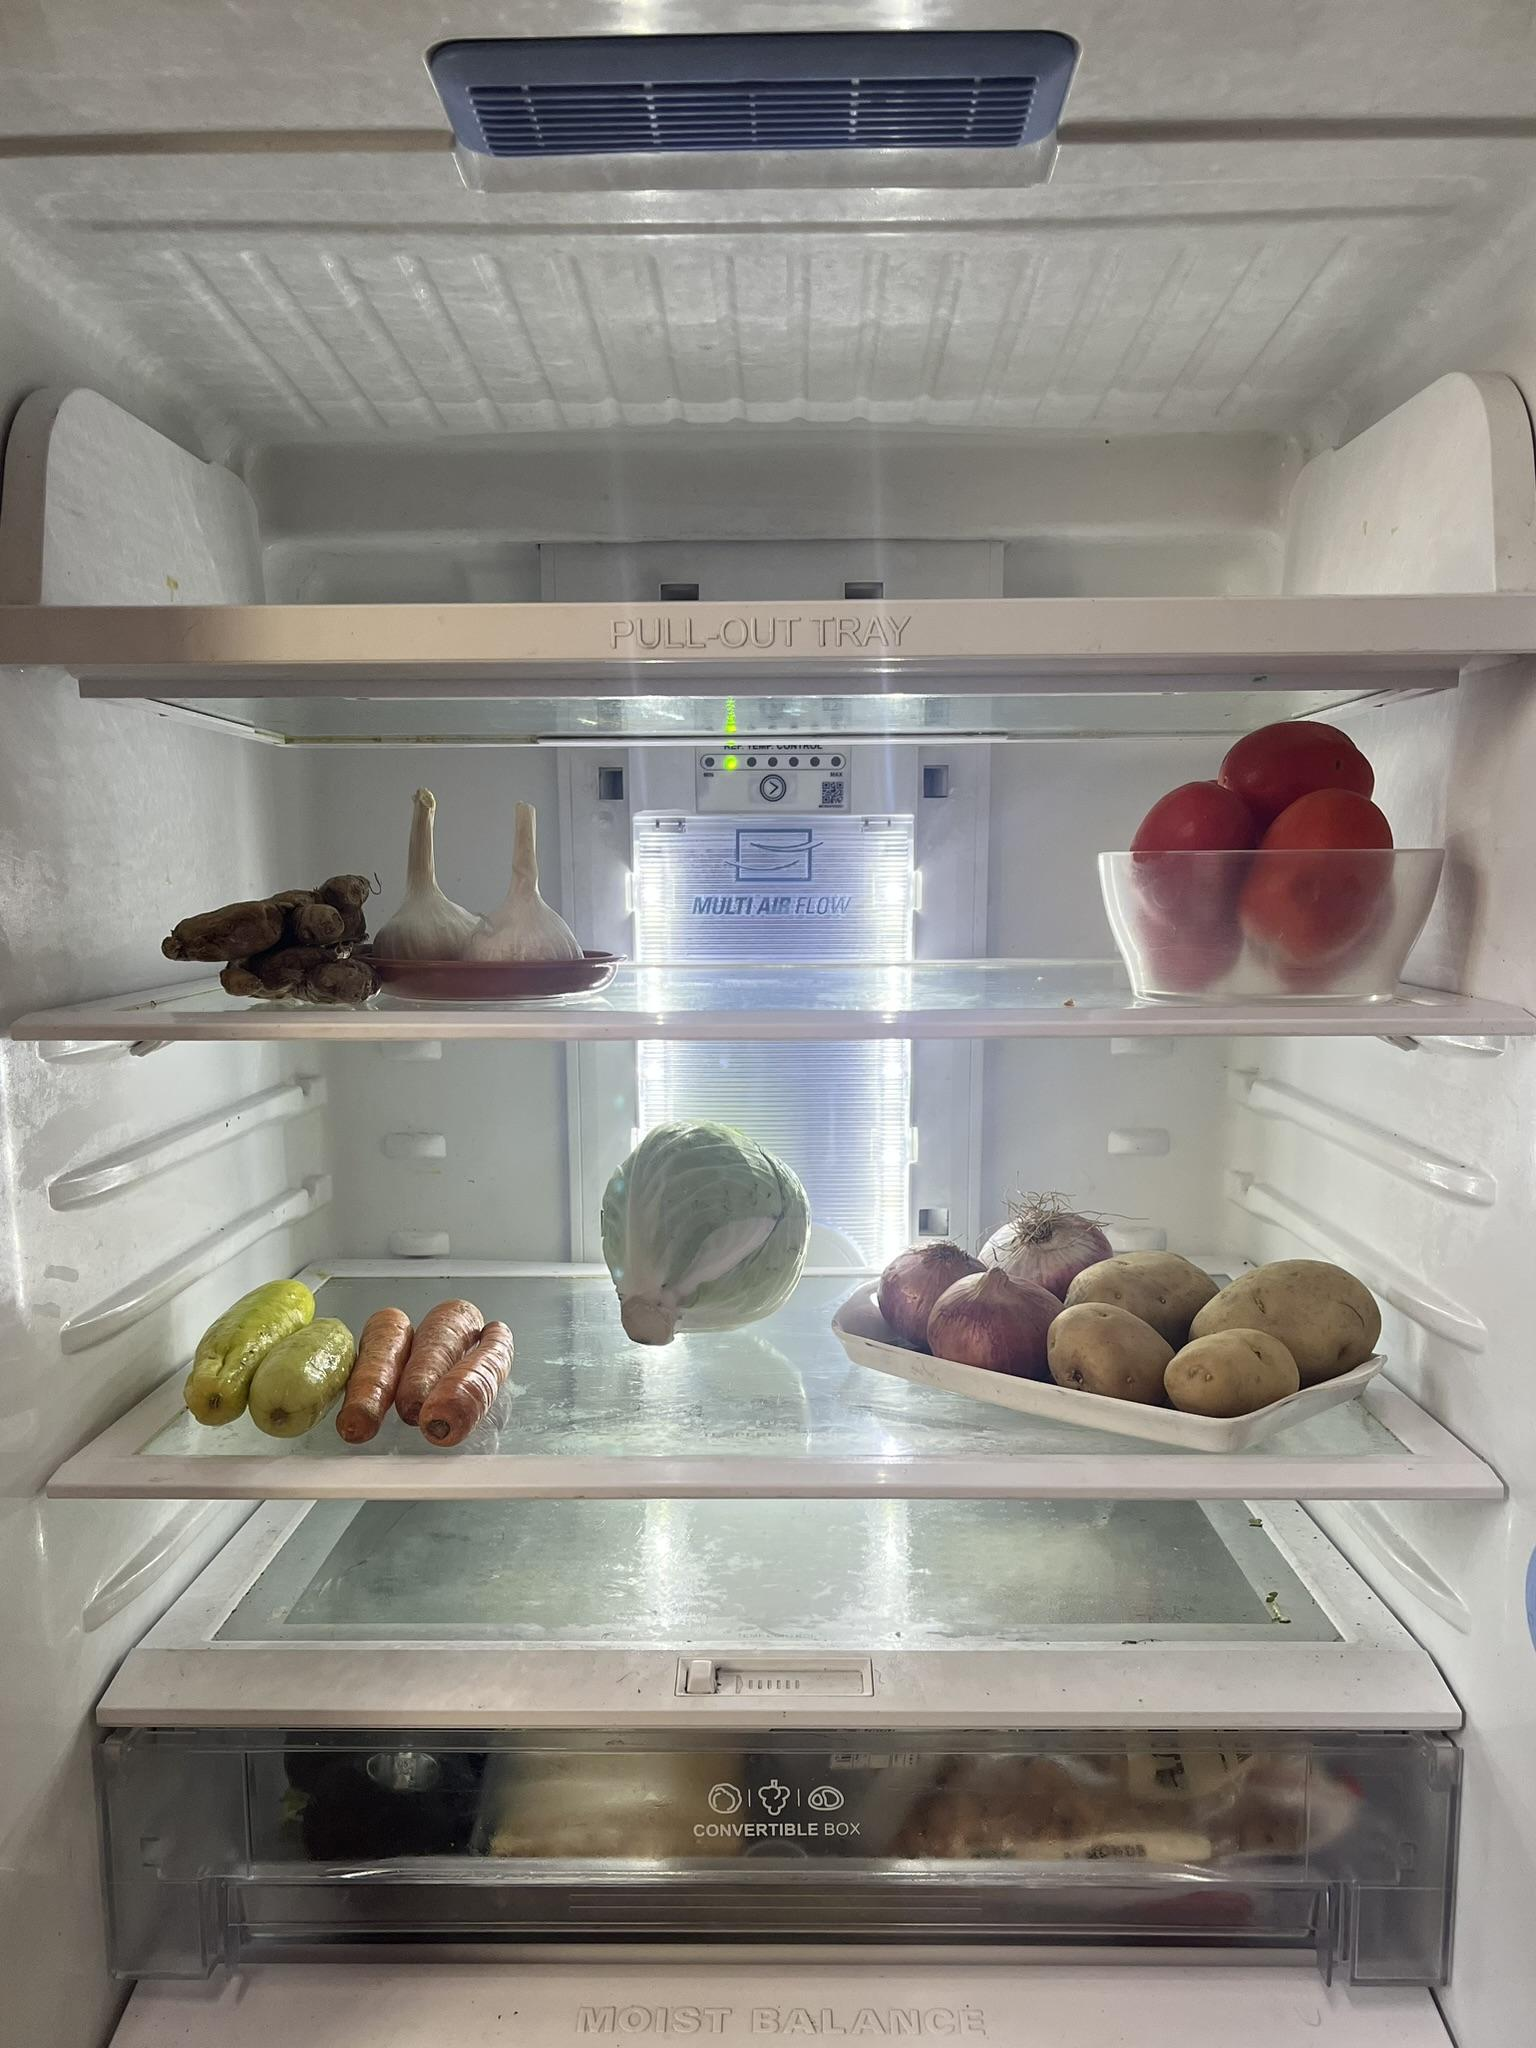cabbage: (594, 1116, 813, 1350)
carrots: (347, 1303, 510, 1447)
cucumber: (190, 1280, 360, 1430)
garlic: (390, 784, 576, 959)
ginger: (169, 880, 376, 993)
onion: (879, 1200, 1110, 1384)
potato: (1057, 1253, 1383, 1409)
tomato: (1141, 719, 1391, 990)
